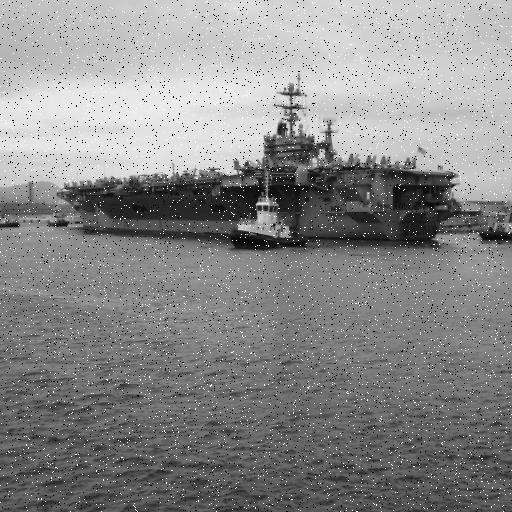Portanaves: (54, 70, 462, 246)
